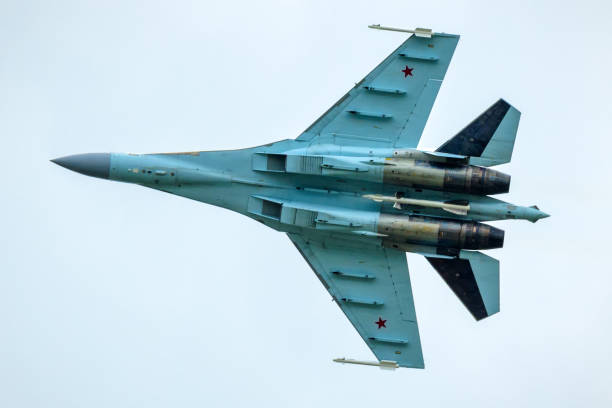Su35: (46, 21, 551, 372)
